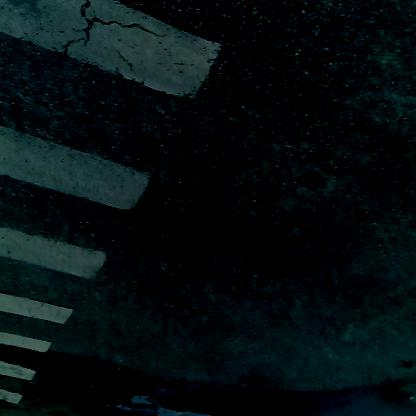crosswalk: (2, 4, 145, 416)
